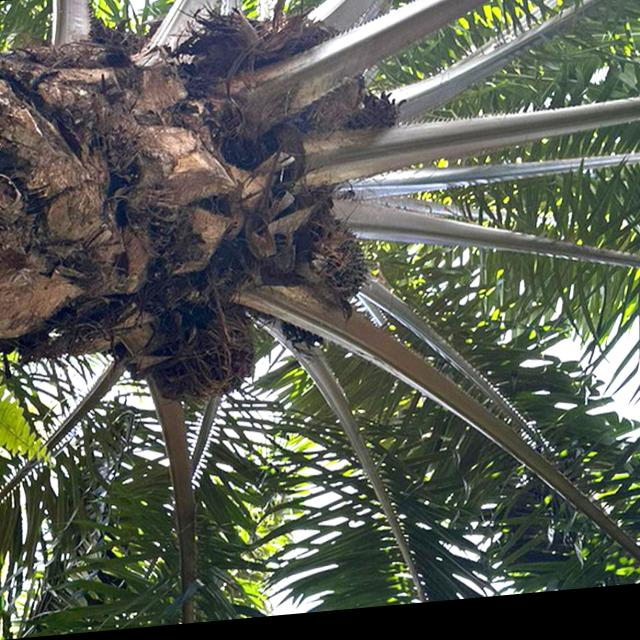unripe: (266, 217, 376, 327)
